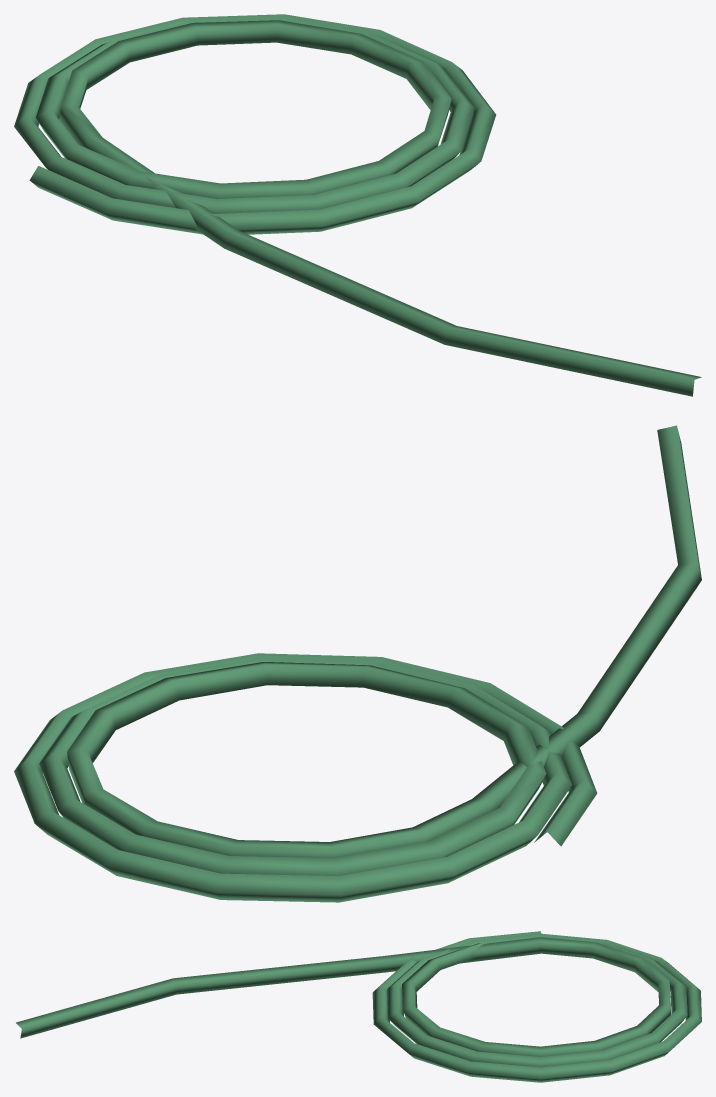
File: hose_ground_LOD1.glb
3 renders of one model, top to bottom at view 1: azimuth 30°, elevation 25°; view 2: azimuth 150°, elevation 25°; view 3: azimuth 270°, elevation 25°, orthographic. The views are drawn at different scales.
Parts seen in each view (by area): view 1: HY_hose_ground_LOD1; view 2: HY_hose_ground_LOD1; view 3: HY_hose_ground_LOD1.
Part boxes in pixels (x1,y1,x2,y2): HY_hose_ground_LOD1: (14,14,701,396); HY_hose_ground_LOD1: (14,425,701,902); HY_hose_ground_LOD1: (16,931,701,1082).
Bounding box in the file's own units: 0.6575 × 0.0546 × 1.32.
